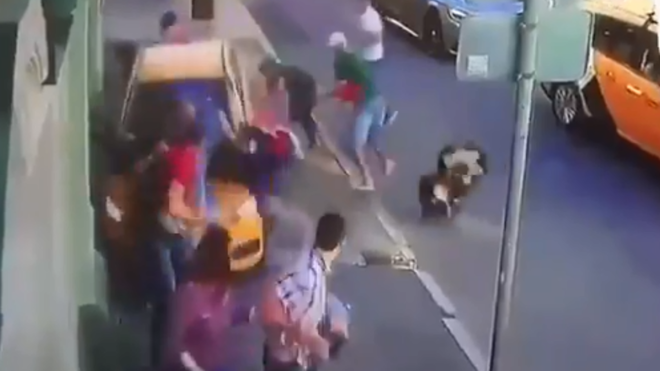Humano: (268, 198, 359, 371), (319, 24, 406, 194), (248, 49, 331, 149)
